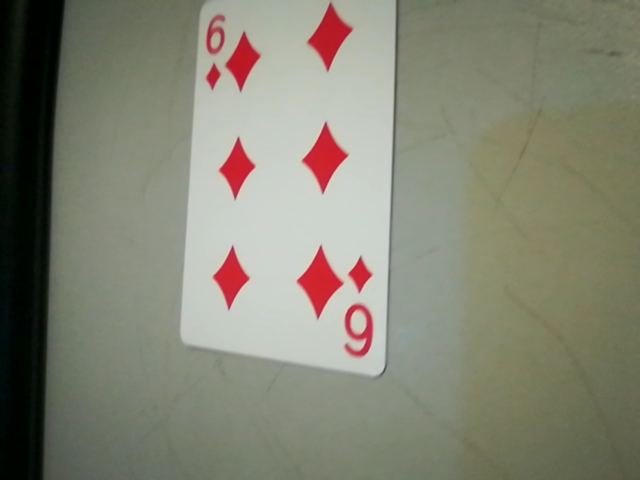fk 6: (332, 254, 387, 369)
